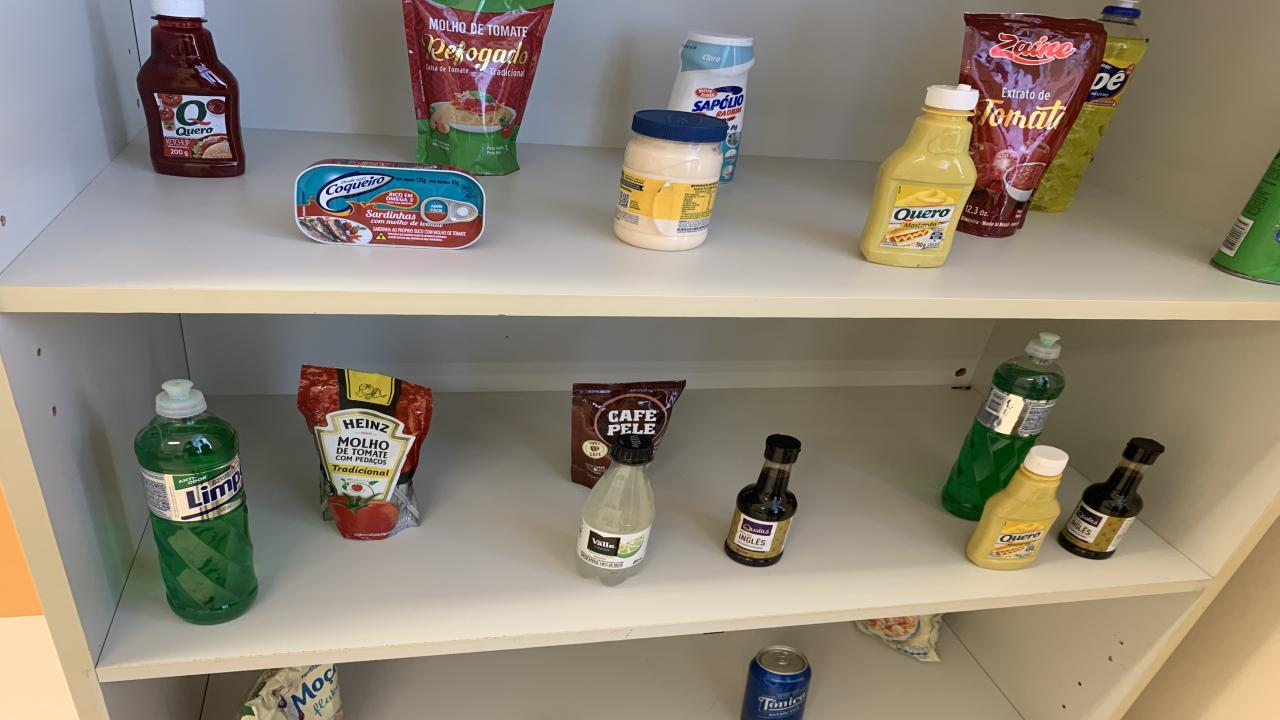Cleaner-Cleanup_Items: (668, 32, 755, 182)
Coffee-Pantry_Items: (570, 381, 685, 488)
Detergent-Cleanup_Items: (135, 379, 258, 624), (1030, 0, 1148, 212), (942, 332, 1065, 521)
English_Sauce-Pantry_Items: (1058, 437, 1165, 559), (725, 435, 800, 566)
Flakes-Snacks: (238, 664, 342, 720), (855, 615, 942, 662)
Ketchup-Pantry_Items: (138, 0, 245, 176)
Mayonnaise-Pantry_Items: (615, 111, 730, 249)
Mustard-Pantry_Items: (860, 84, 980, 268), (968, 444, 1068, 570)
Pringles-Snacks: (1210, 152, 1280, 285)
Soda-Drinks: (578, 433, 655, 585)
Tomato_Sauce-Pantry_Items: (958, 13, 1105, 238), (402, 0, 552, 174), (298, 366, 432, 540)
Tonic-Drinks: (740, 645, 812, 720)
Tuna_Can-Pantry_Items: (292, 158, 485, 249)
